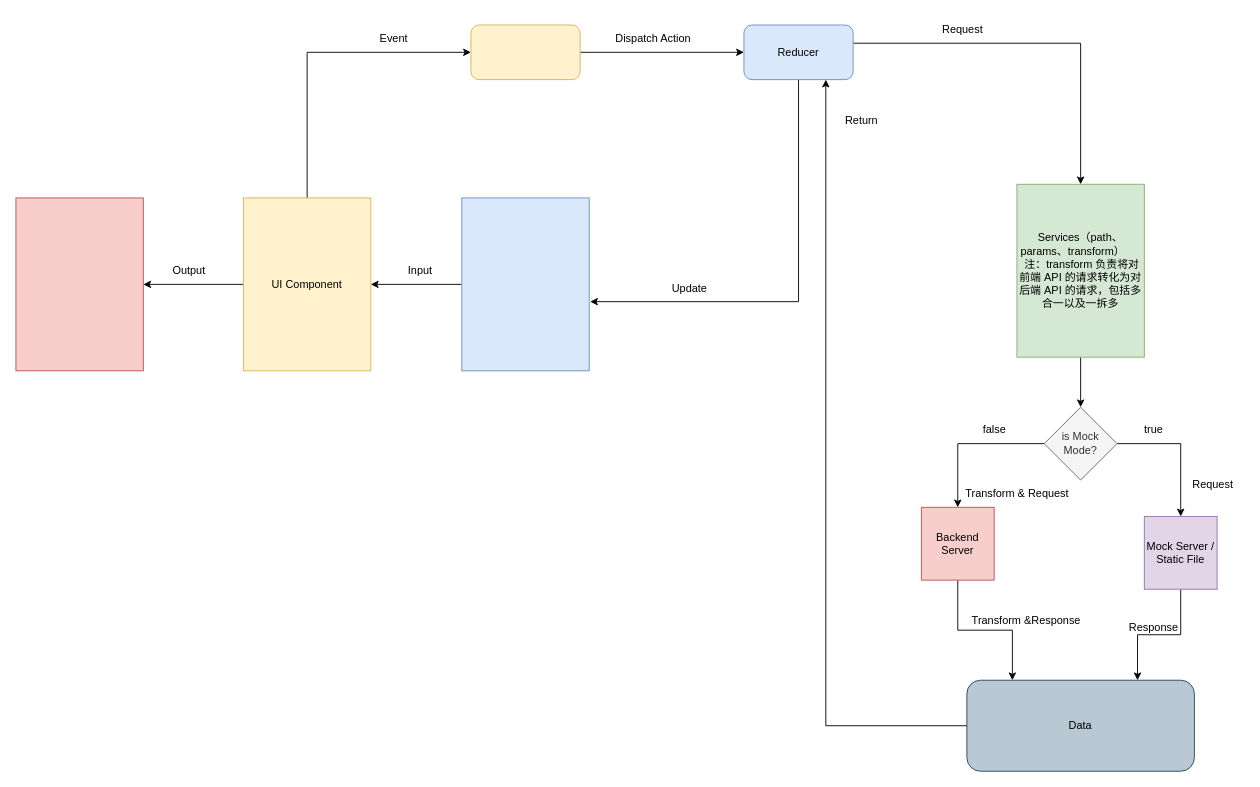
The diagram is 1260 pixels wide and 787 high, and some of its shapes have lost their labels. Each missing label, with the centre of its shape:
Dispatcher: the point at 525,52
Store: the point at 525,284
UI: the point at 79,284
